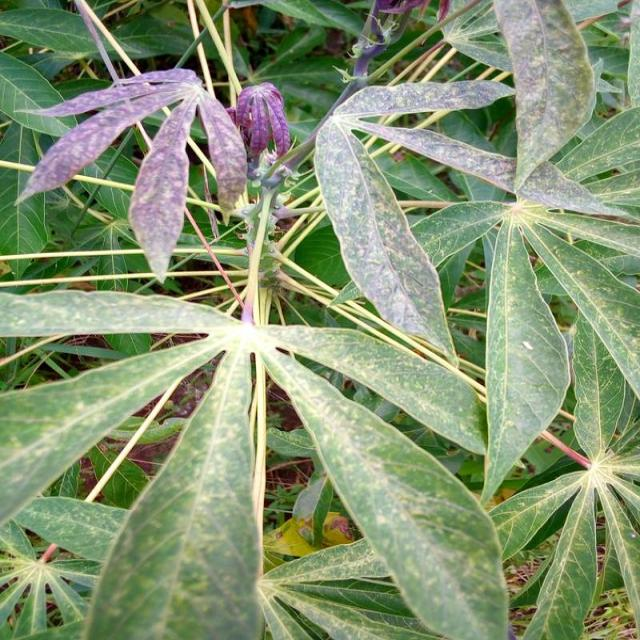cassava leaf: (0, 0, 638, 638), (258, 341, 510, 638), (81, 339, 264, 638), (312, 112, 459, 368)
